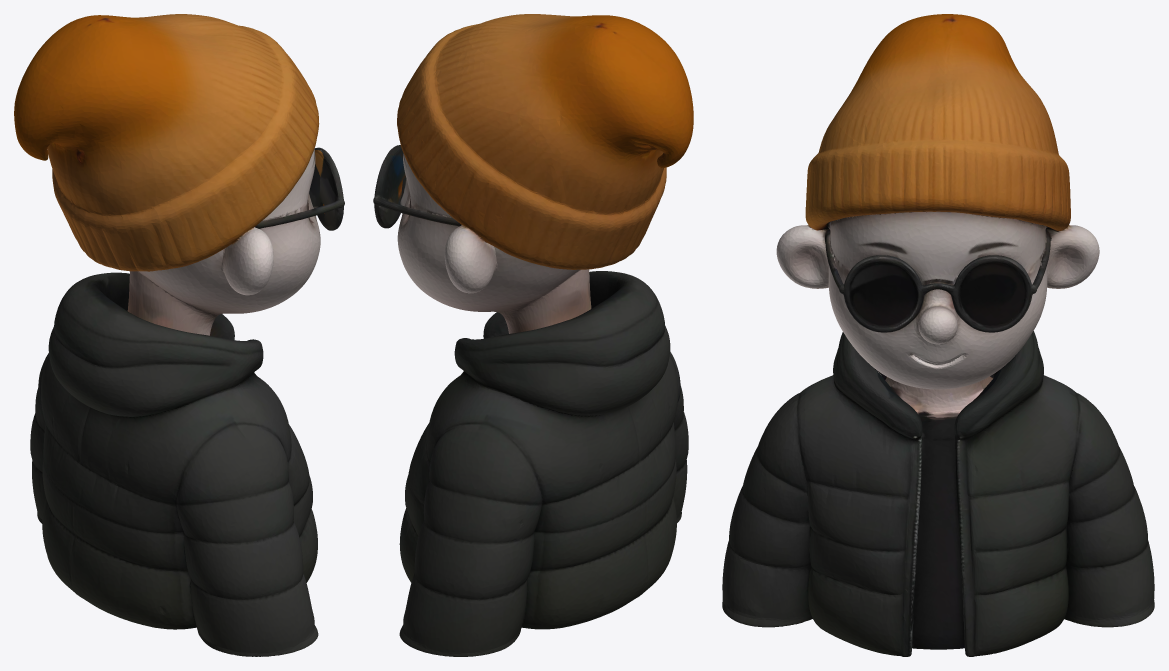
Rendered from NFT.glb.
3 renders of one model, left to right at view 1: azimuth 30°, elevation 25°; view 2: azimuth 150°, elevation 25°; view 3: azimuth 270°, elevation 25°, orthographic. The views are drawn at different scales.
Visible parts, largest first — view 1: tripo_node_0f4df18b-706d-4925-913c-a9165c3df2fb; view 2: tripo_node_0f4df18b-706d-4925-913c-a9165c3df2fb; view 3: tripo_node_0f4df18b-706d-4925-913c-a9165c3df2fb.
Part boxes in pixels (bbox=[...]): tripo_node_0f4df18b-706d-4925-913c-a9165c3df2fb: bbox=[14, 14, 344, 656]; tripo_node_0f4df18b-706d-4925-913c-a9165c3df2fb: bbox=[373, 14, 693, 656]; tripo_node_0f4df18b-706d-4925-913c-a9165c3df2fb: bbox=[722, 14, 1154, 656].
Bounding box in the file's own units: 0.5658 × 1 × 0.707.
1 material, 1 textured.
